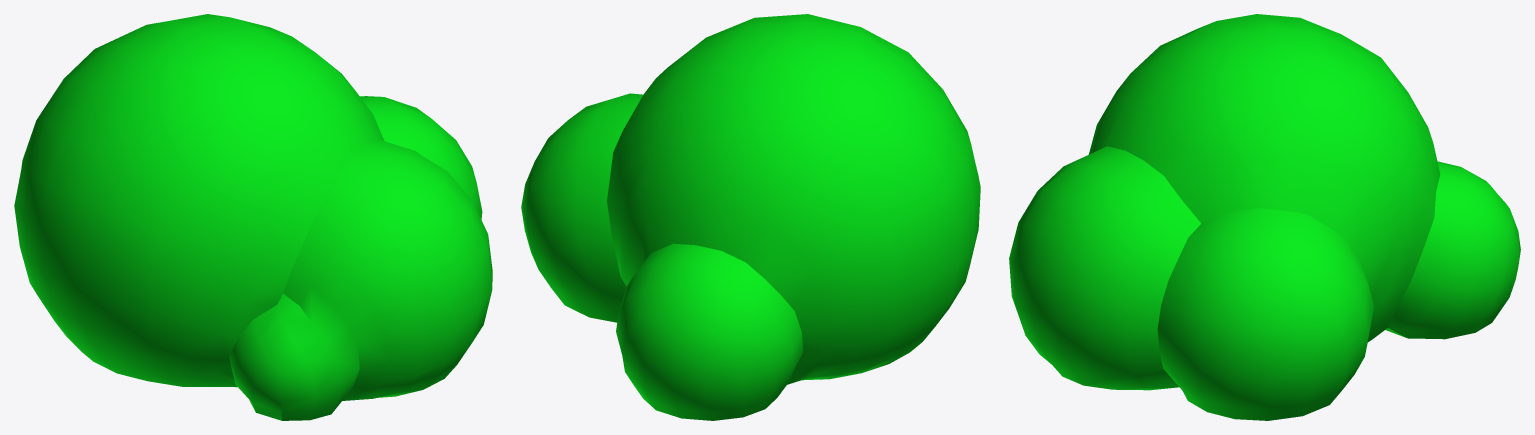
Rendered from Arbusto02.fbx.
3 views of the same model, side by side, from view 1: azimuth 30°, elevation 25°; view 2: azimuth 150°, elevation 25°; view 3: azimuth 270°, elevation 25° (orthographic). The views are drawn at different scales.
Parts seen in each view (by area): view 1: Arbusto02; view 2: Arbusto02; view 3: Arbusto02.
Part boxes in pixels (x1=…): Arbusto02: x1=14, y1=14, x2=492, y2=420; Arbusto02: x1=521, y1=14, x2=980, y2=420; Arbusto02: x1=1009, y1=14, x2=1520, y2=420.
Size of the model in its own units: 251 by 171 by 277.
